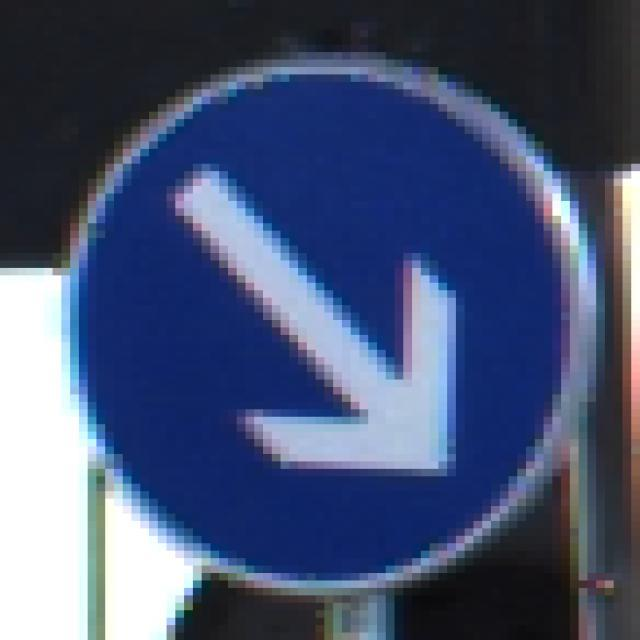compulsary keep right: (67, 45, 599, 596)
